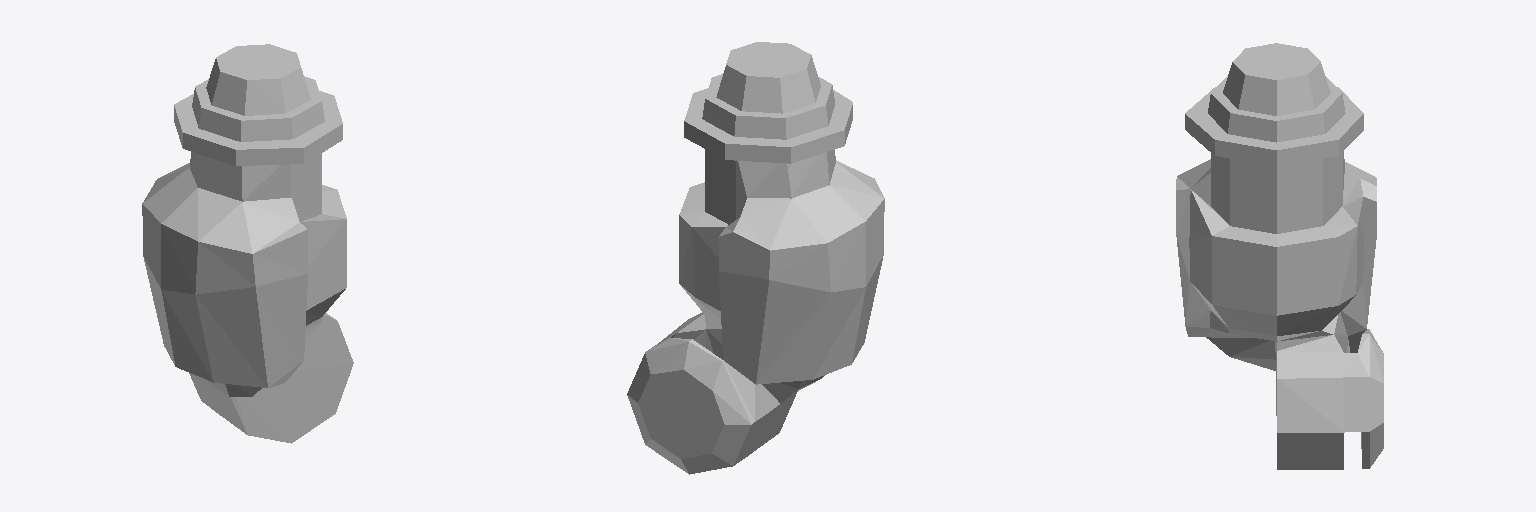
File: aj3_right.obj
3 views of the same model, side by side, from view 1: azimuth 30°, elevation 25°; view 2: azimuth 150°, elevation 25°; view 3: azimuth 270°, elevation 25° (orthographic).
Parts seen in each view (by area): view 1: Circle; view 2: Circle; view 3: Circle.
Boxes of the visible parts, x1,y1,x2,y2 form: Circle: [142, 44, 353, 443]; Circle: [627, 42, 884, 474]; Circle: [1176, 43, 1383, 469].
Bounding box in the file's own units: 0.1459 × 0.2818 × 0.137.